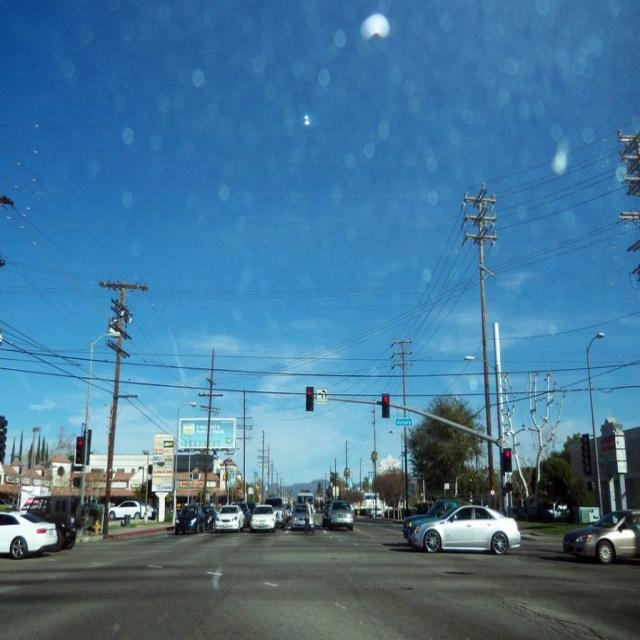traffic light: (75, 437, 84, 464), (503, 448, 512, 472), (305, 386, 313, 412), (382, 394, 390, 418)
